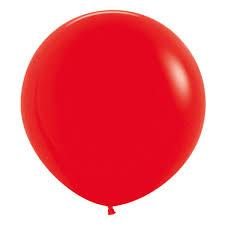red: (22, 9, 206, 214)
